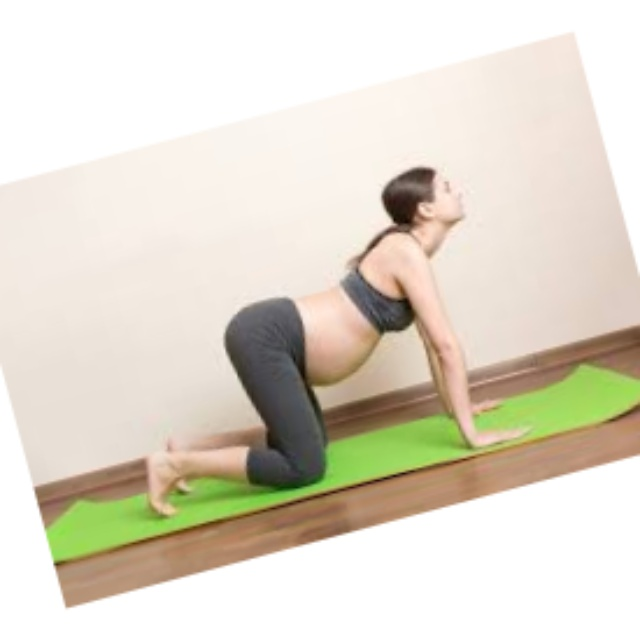Cow_Pose: (145, 165, 535, 525)
